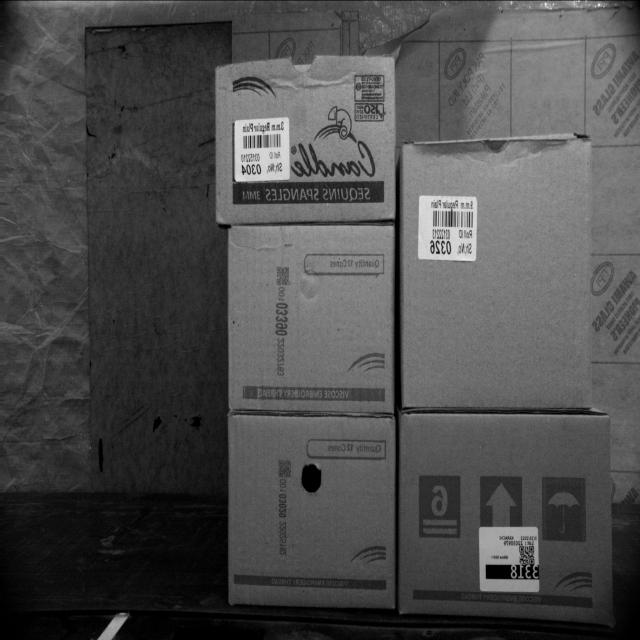cardboxes: (399, 135, 591, 414), (397, 410, 613, 609), (226, 414, 395, 613), (228, 221, 394, 412), (216, 55, 396, 224)
